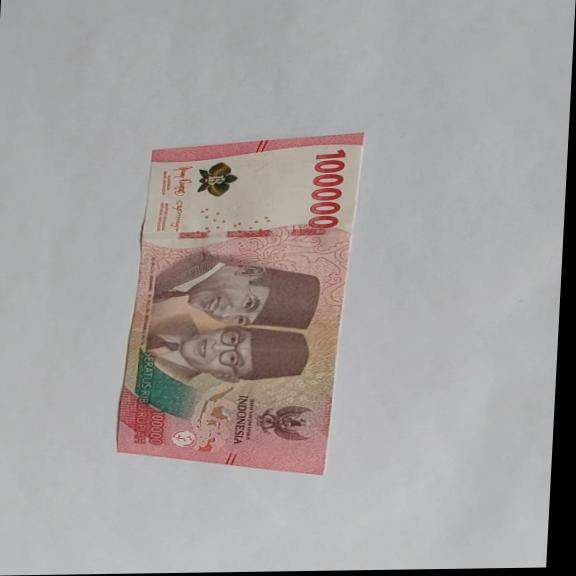Kertas: (113, 132, 365, 479), (305, 148, 349, 229)
